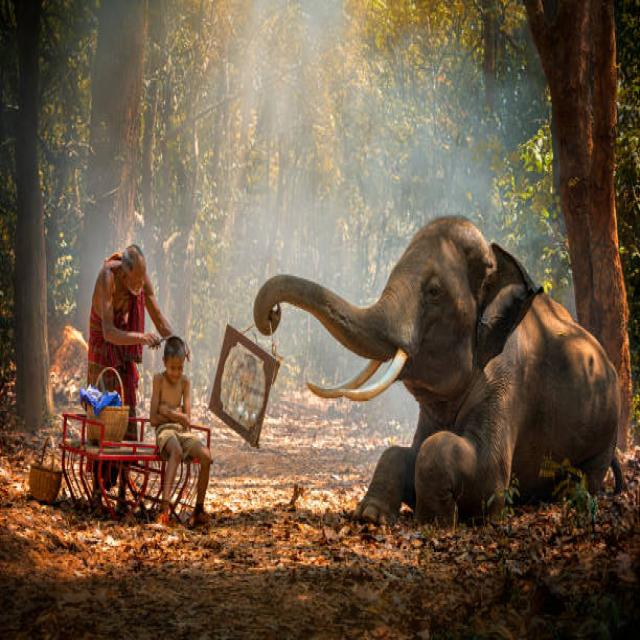Elephant: (262, 201, 638, 524)
